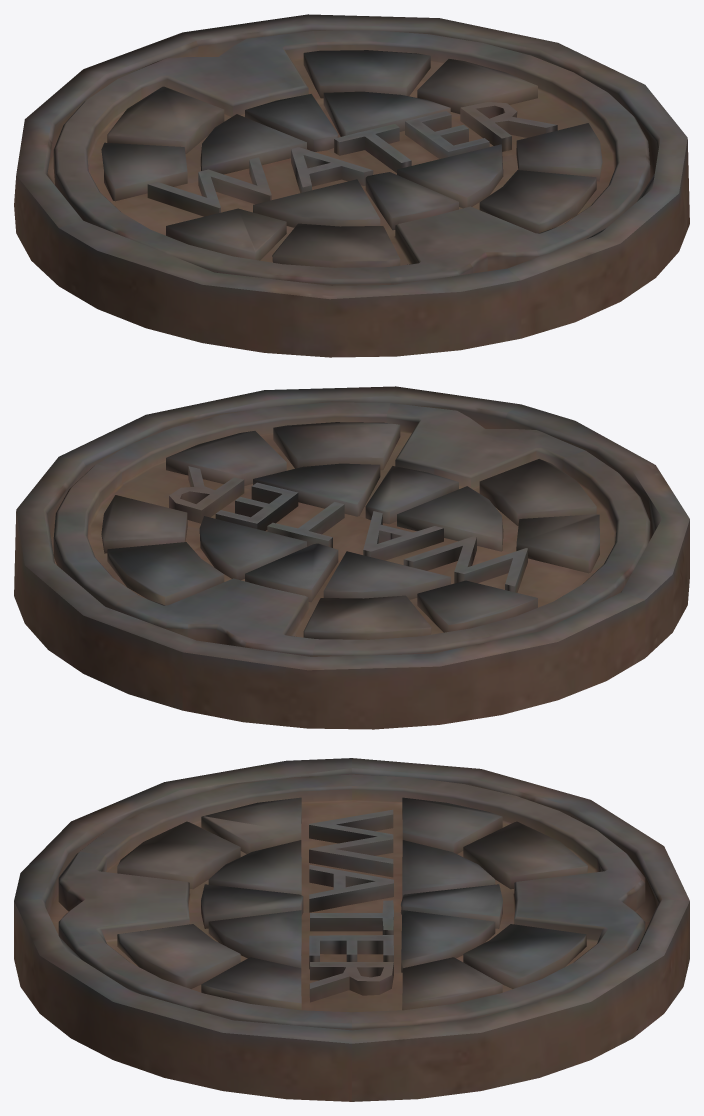
The model's file is water_manhole_cover.glb.
3 views of the same model, one above another, from view 1: azimuth 30°, elevation 25°; view 2: azimuth 150°, elevation 25°; view 3: azimuth 270°, elevation 25° (orthographic).
Parts seen in each view (by area): view 1: water_manhole_cover, water_manhole_cover_frame; view 2: water_manhole_cover, water_manhole_cover_frame; view 3: water_manhole_cover, water_manhole_cover_frame.
Part boxes in pixels (left/top/right/bottom): water_manhole_cover: left=53, top=30, right=650, bottom=285; water_manhole_cover_frame: left=14, top=14, right=689, bottom=357; water_manhole_cover: left=53, top=402, right=650, bottom=656; water_manhole_cover_frame: left=14, top=386, right=689, bottom=729; water_manhole_cover: left=58, top=774, right=645, bottom=1030; water_manhole_cover_frame: left=14, top=758, right=689, bottom=1101.
Size of the model in its own units: 0.6908 by 0.0676 by 0.6908.
Materials: 1 (1 with a texture image).
